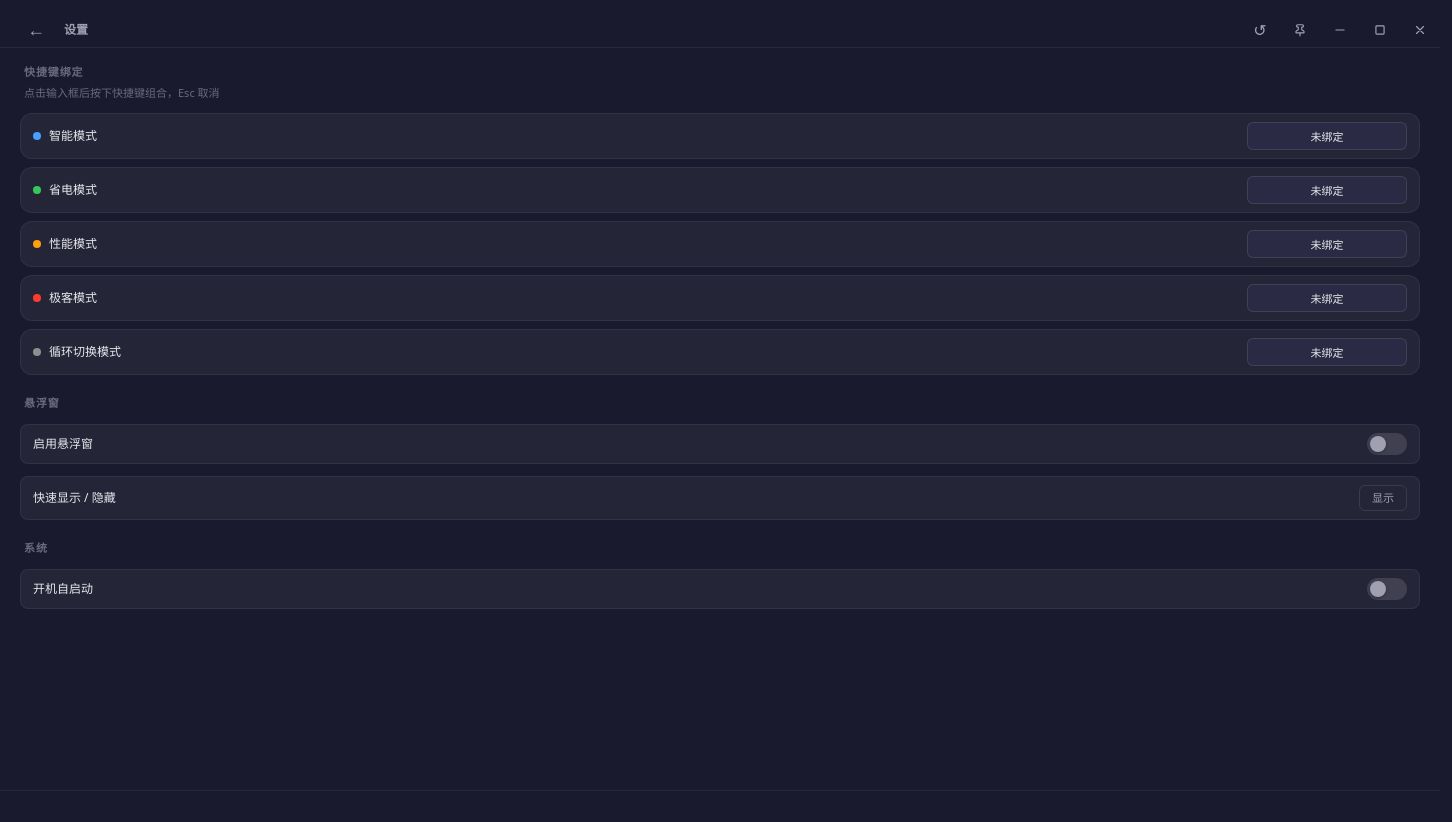
it: Settings.vue - Error reporting › shows the autostart failure
Click the button with class "toggle" in the row of "开机自启动": (1387, 588) [1367,578,1407,600]
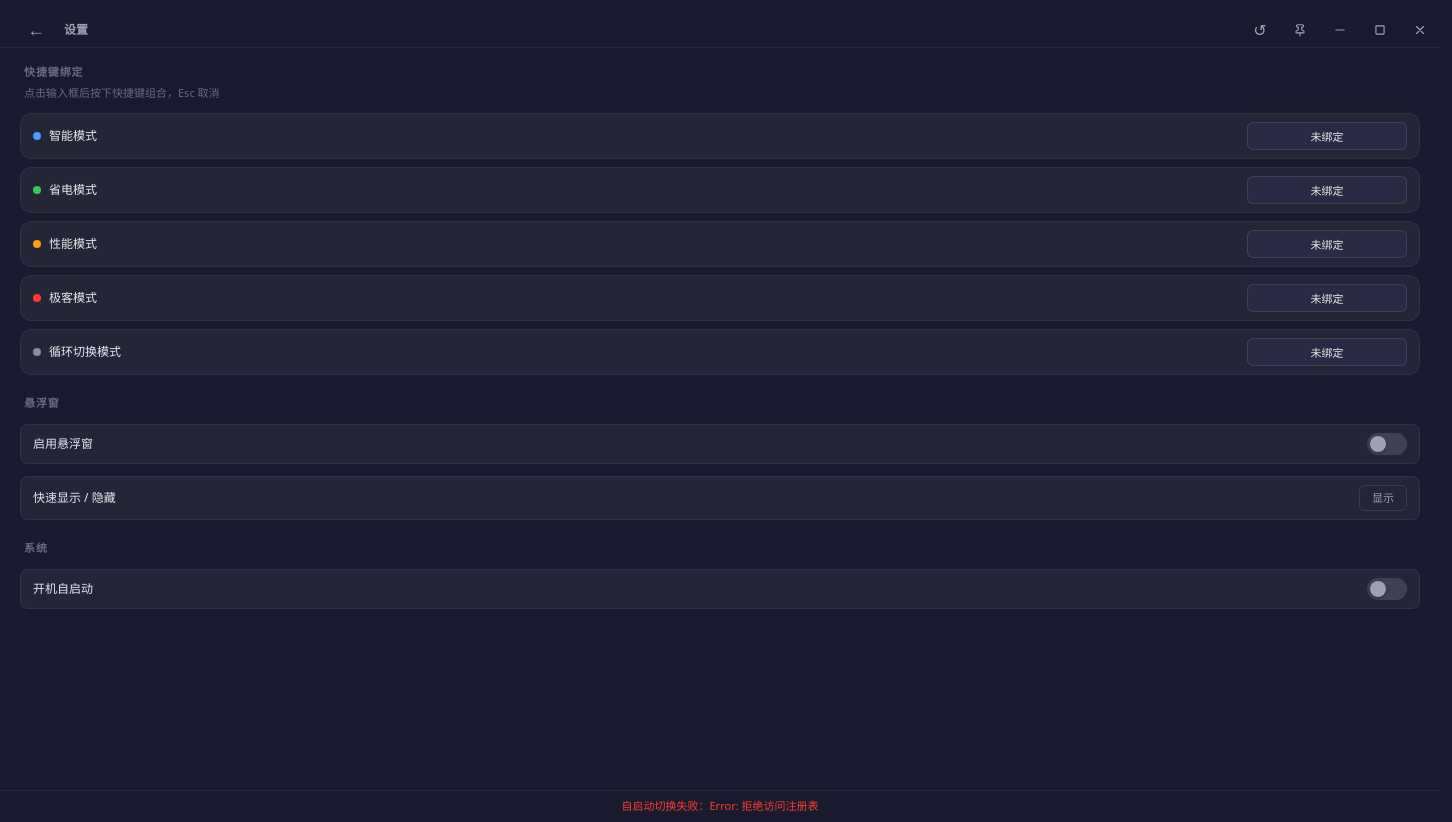
Check: the text "自启动切换失败：Error: 拒绝访问注册表" is shown, box [622,799,818,814]
Check: the text with class "error-indicator" shows "自启动切换失败", box [622,798,818,813]
Check: the text with class "error-indicator" shows "拒绝访问注册表", box [622,798,818,813]
